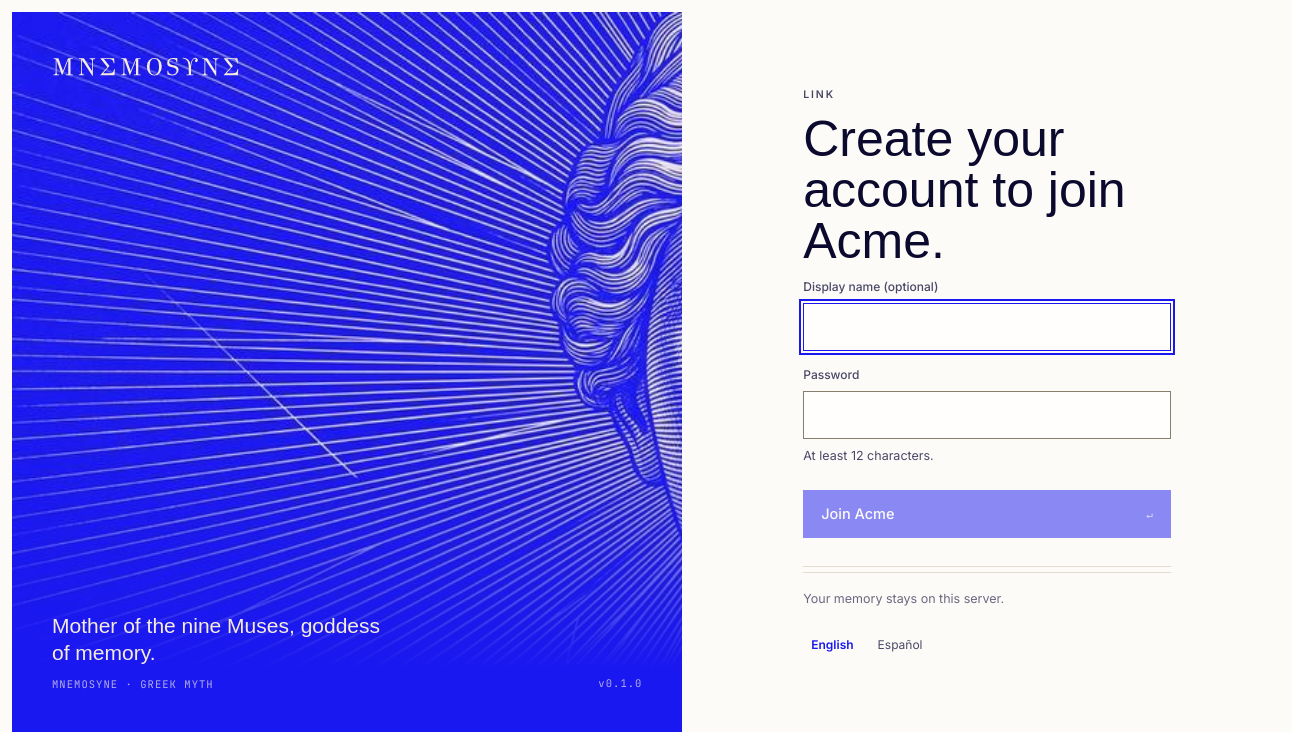
Test: link page › a link that dies between reading and submitting switches to the invalid state
Step 1. Type "a long enough password" into the password field labelled "Password" → (987, 415), box [803,391,1171,439]
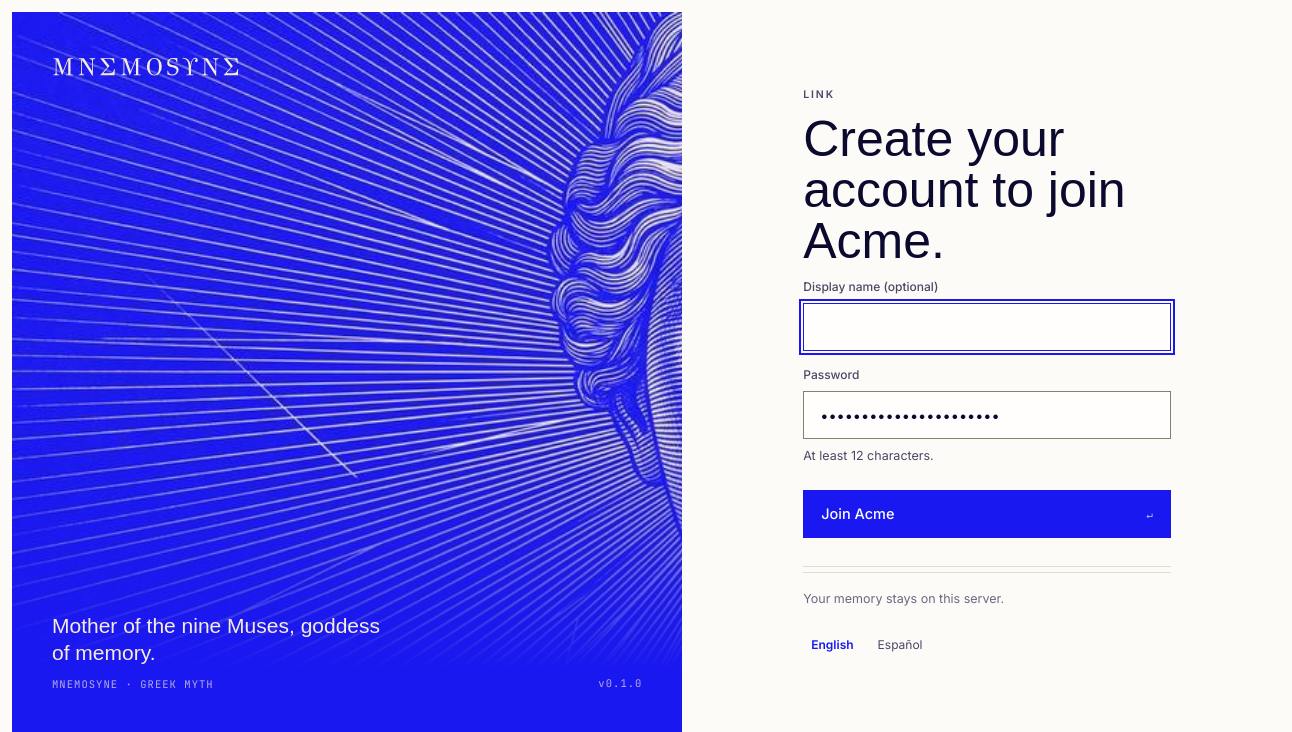
Step 2. Click the button "Join Acme ↵" → click(858, 514), box [803,490,1171,538]
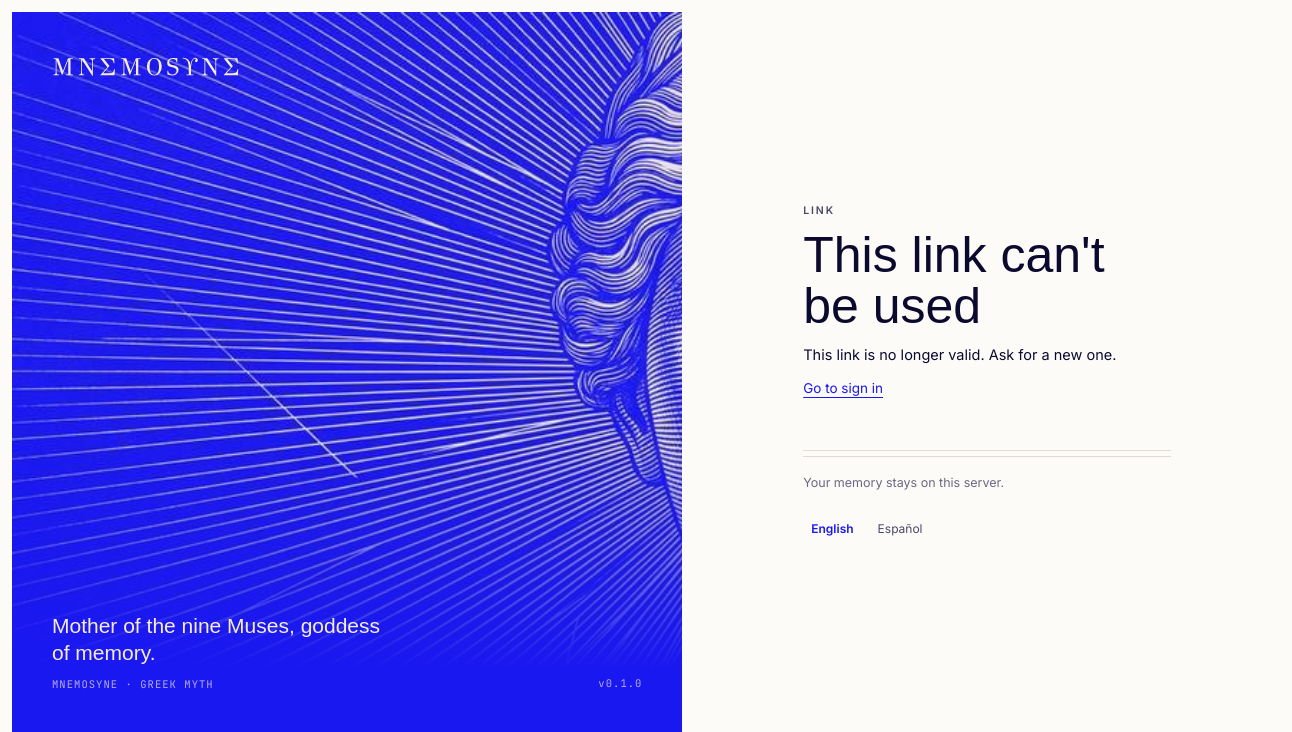
Result: the text "This link is no longer valid. Ask for a new one." is shown at [803,344,1171,366]
